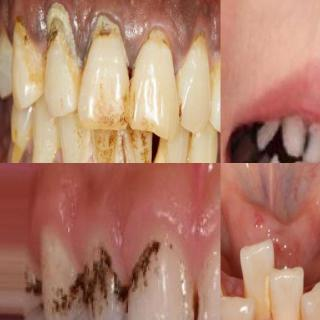Gum Swelling: (110, 5, 220, 71), (56, 0, 109, 57), (17, 0, 52, 50)
calculus: (82, 9, 133, 117), (42, 0, 83, 105), (135, 20, 179, 100), (12, 16, 42, 98), (255, 270, 287, 320), (186, 24, 211, 84), (0, 22, 12, 79), (288, 303, 315, 320), (213, 24, 220, 74)
cavities: (301, 133, 310, 157)
maligned: (234, 231, 275, 320), (262, 260, 304, 320), (244, 110, 284, 156), (220, 284, 253, 320), (295, 275, 320, 320), (304, 114, 320, 163)
stains: (80, 74, 129, 128), (128, 242, 162, 301), (128, 90, 169, 130), (94, 251, 118, 313), (52, 273, 88, 312), (57, 118, 85, 163), (20, 51, 45, 101), (92, 127, 120, 163), (15, 267, 41, 305), (188, 282, 212, 320), (125, 132, 153, 163), (168, 92, 190, 130)
